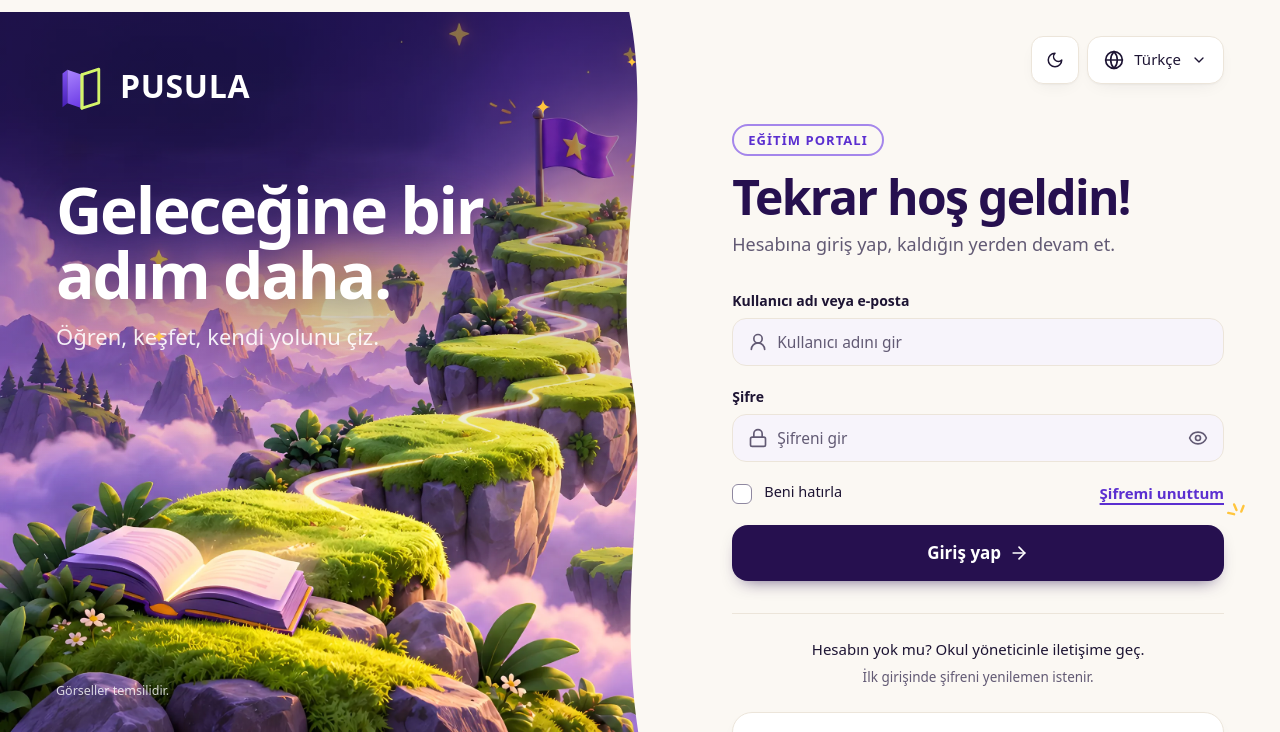
it: authentication & routing › toggles password visibility without losing the typed value
In the password field labelled "Şifre": (978, 438) [732,414,1224,462], type "secret-1"
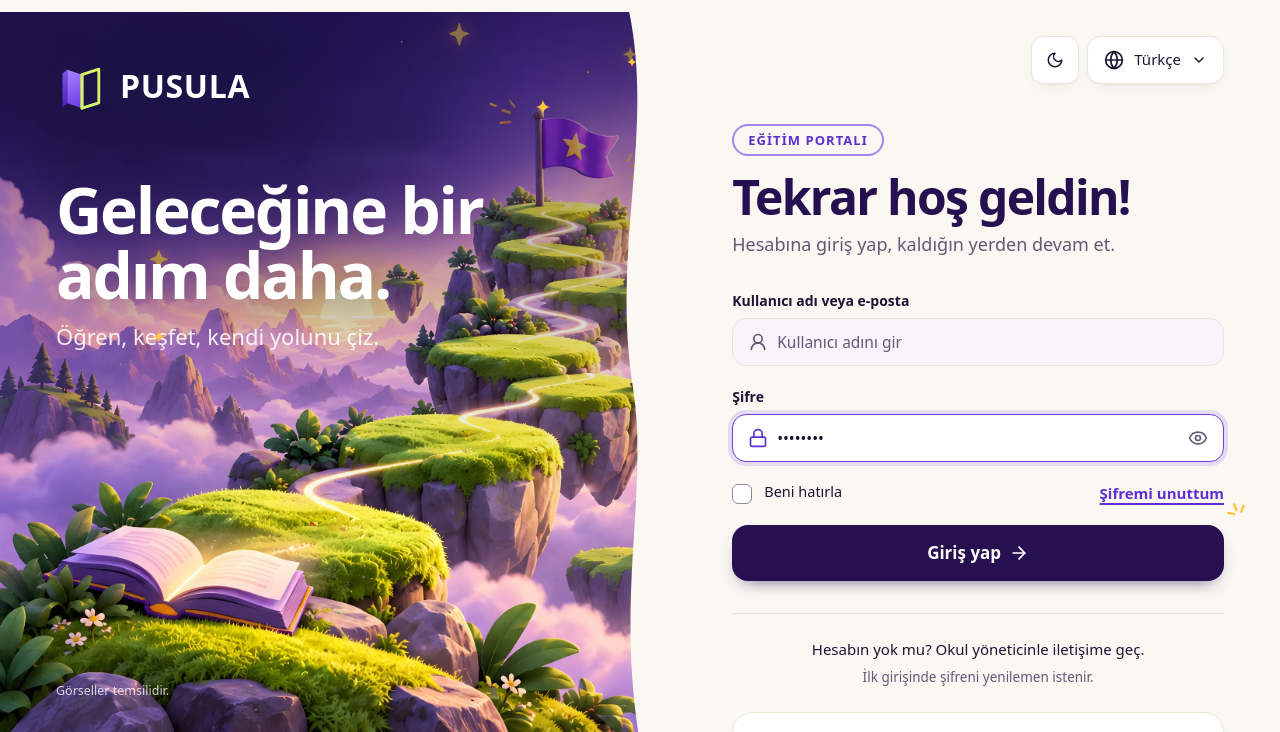
Click the button named "Şifreyi göster": (1198, 438) [1178,418,1218,458]
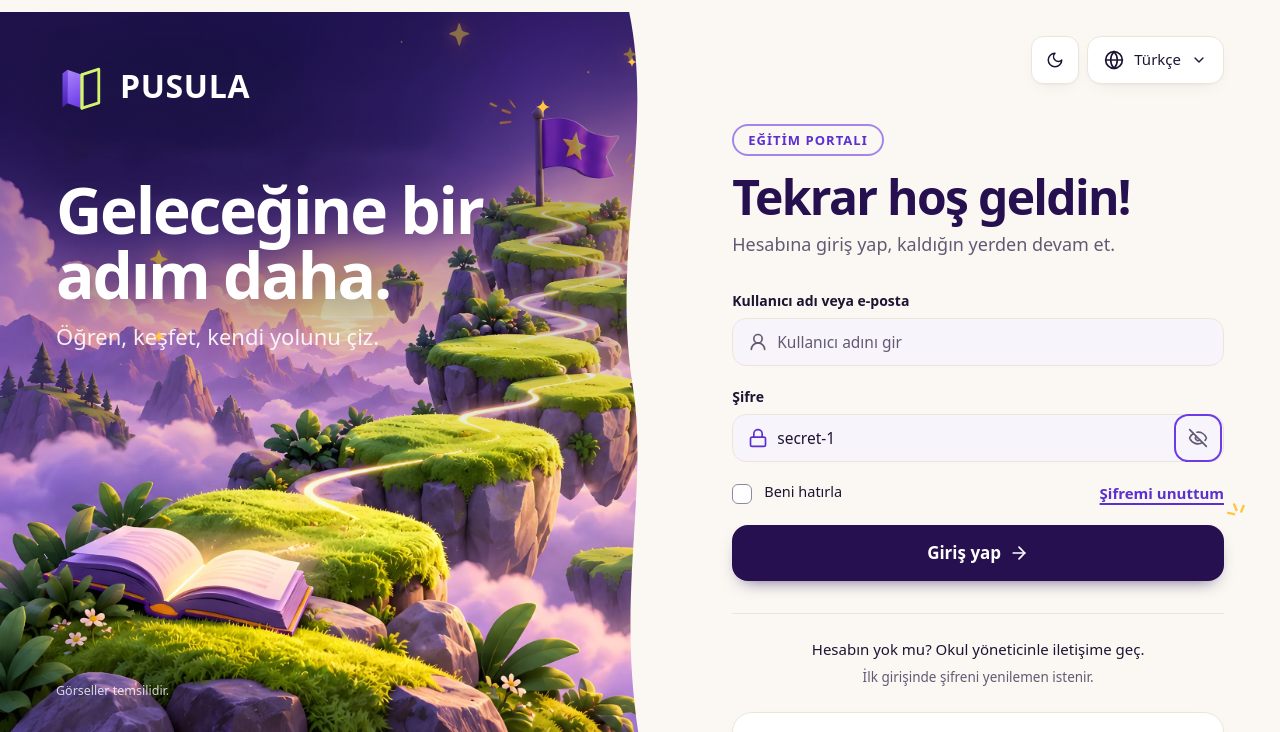
Result: the field labelled "Şifre" shows its text at [732,414,1224,462]
